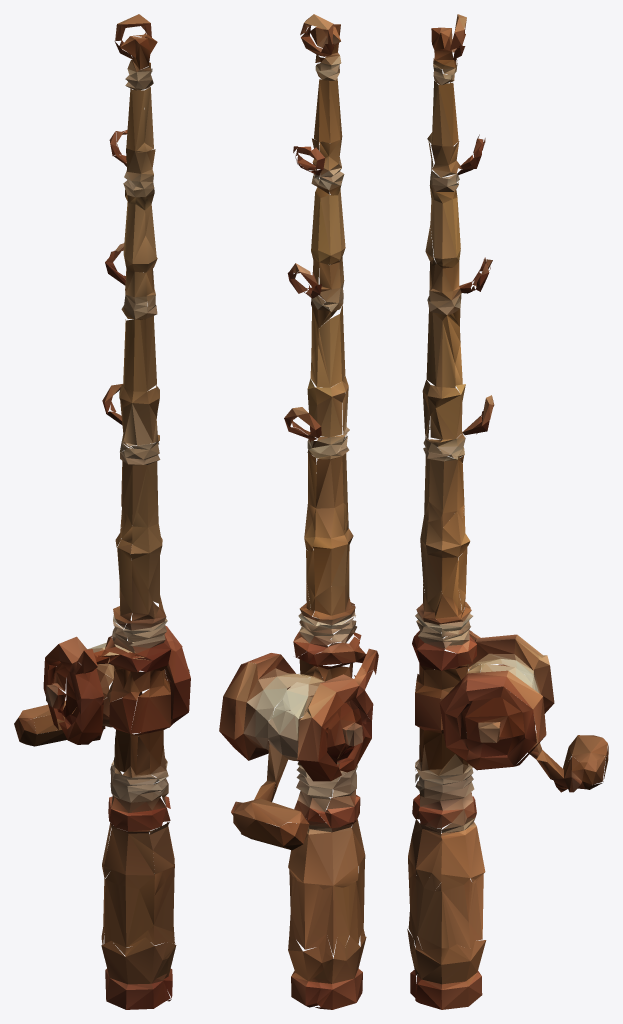
File: goodRod.glb
3 renders of one model, left to right at view 1: azimuth 30°, elevation 25°; view 2: azimuth 150°, elevation 25°; view 3: azimuth 270°, elevation 25°, orthographic.
Visible parts, largest first — view 1: 0_goodRod; view 2: 0_goodRod; view 3: 0_goodRod.
Part boxes in pixels (left/top/right/bottom): 0_goodRod: left=14, top=14, right=190, bottom=1009; 0_goodRod: left=219, top=14, right=378, bottom=1009; 0_goodRod: left=407, top=14, right=608, bottom=1009.
Bounding box in the file's own units: 0.1809 × 1.28 × 0.2381.
